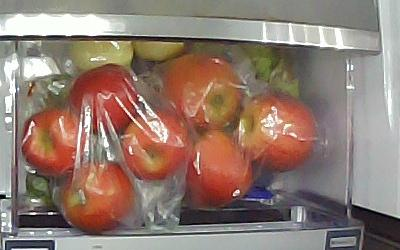apple_vinyl: (238, 93, 318, 174), (161, 54, 240, 133), (185, 130, 253, 208), (61, 162, 134, 233), (70, 64, 141, 136), (121, 110, 190, 183), (23, 106, 87, 177)
